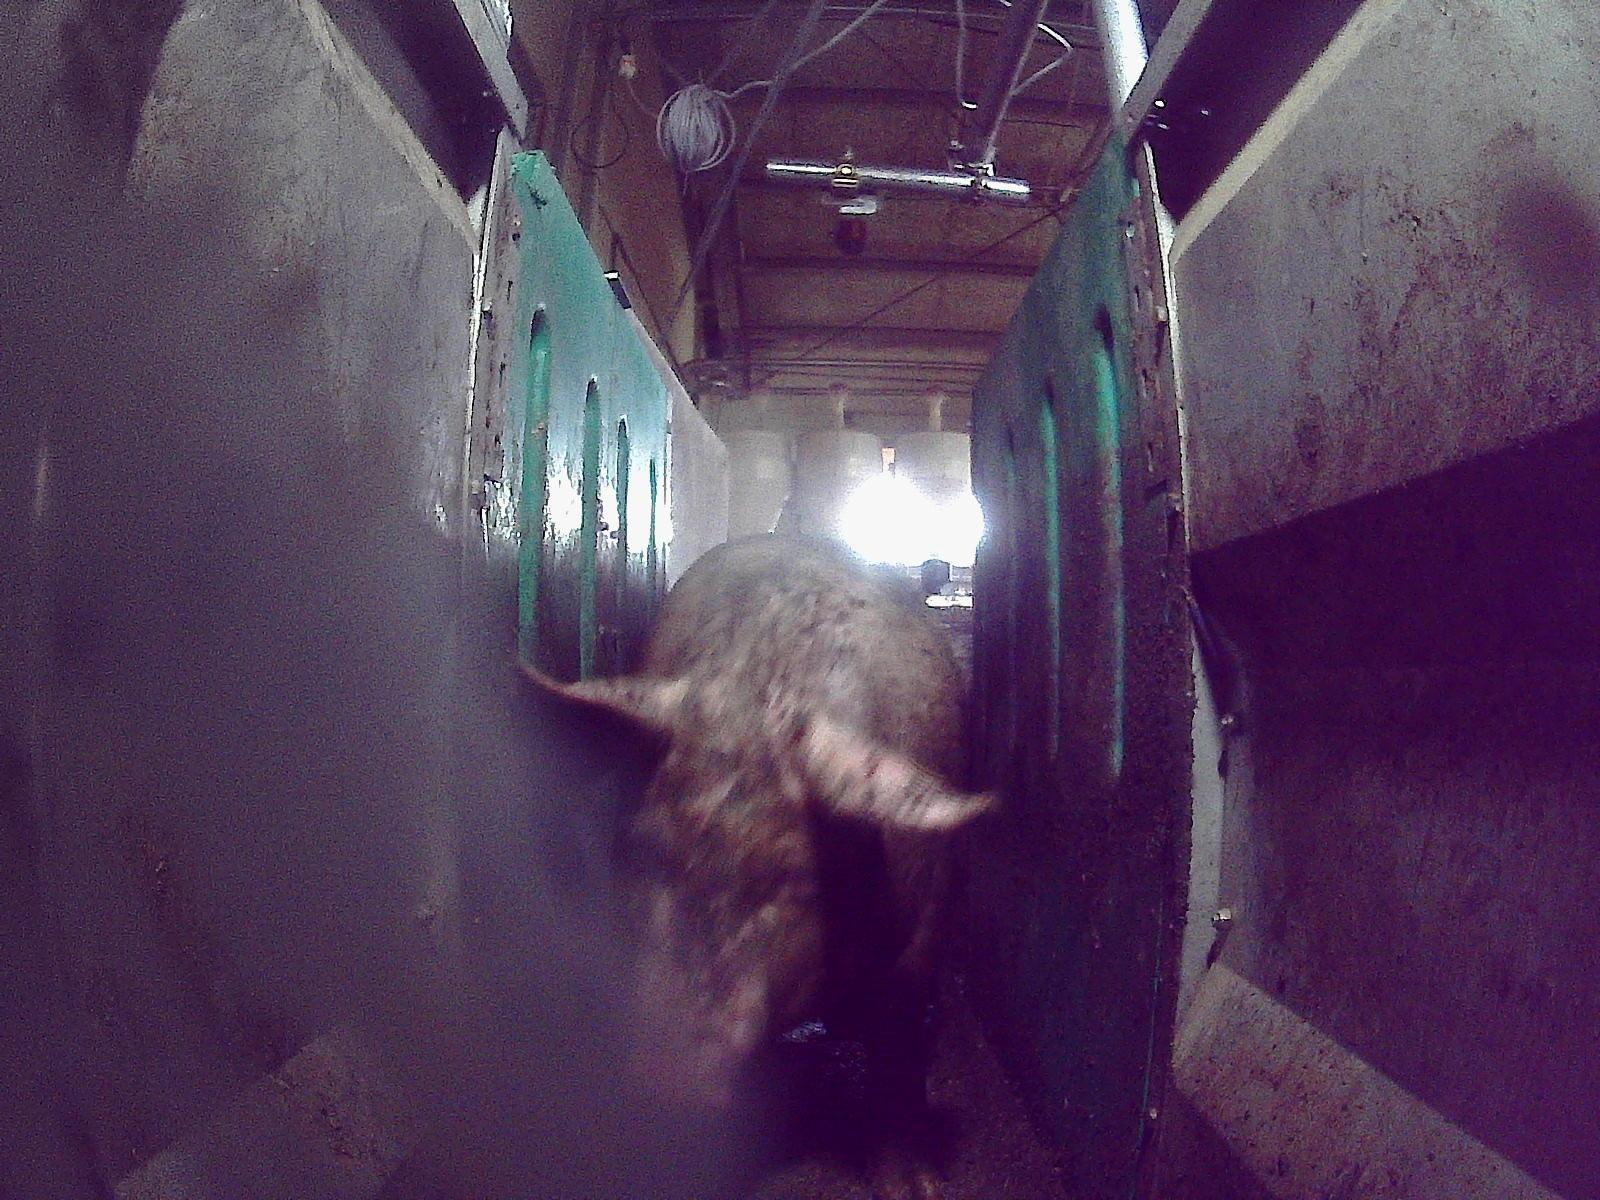Face: (615, 674, 850, 1133)
